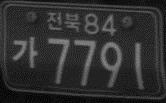1: (132, 41, 146, 91)
4: (102, 14, 116, 36)
7: (73, 38, 98, 87), (46, 36, 69, 84)
8: (83, 11, 98, 35)
9: (100, 41, 123, 91)
가: (11, 36, 38, 68)
전북_O: (46, 11, 82, 33)
